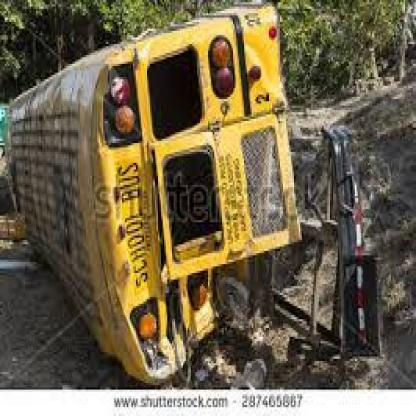accident: (11, 4, 387, 382)
